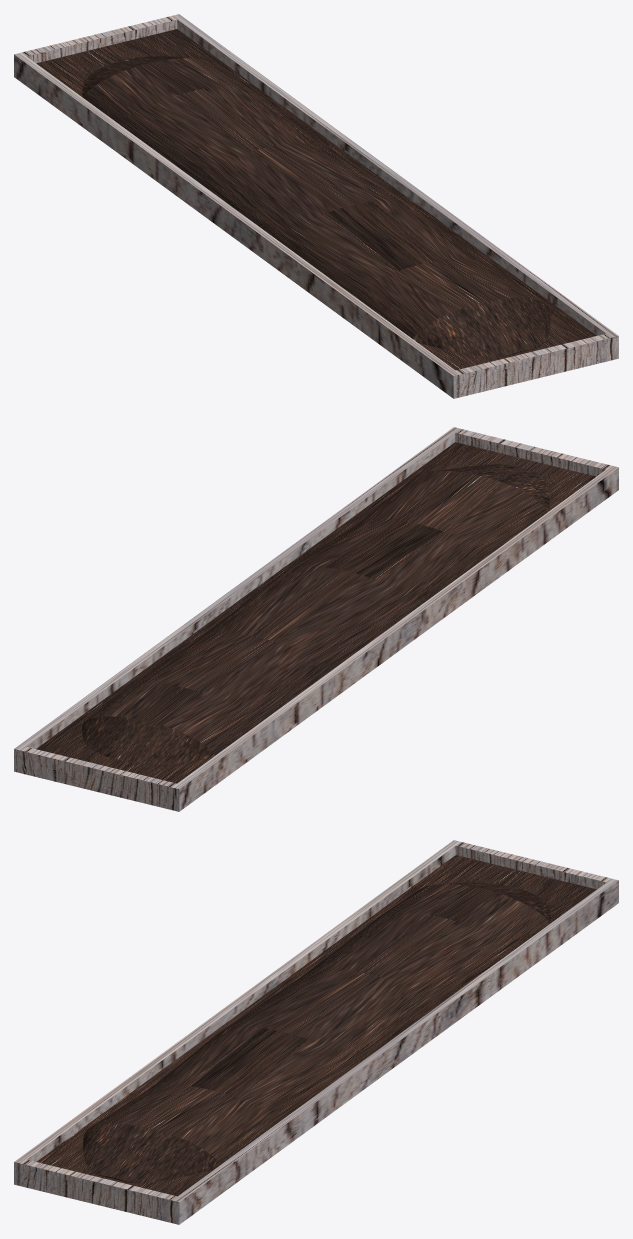
File: SoilDirtPatchIDFK.fbx
3 renders of one model, top to bottom at view 1: azimuth 30°, elevation 25°; view 2: azimuth 150°, elevation 25°; view 3: azimuth 330°, elevation 25°, orthographic.
Parts seen in each view (by area): view 1: soil, pent; view 2: soil, pent; view 3: soil, pent.
Part boxes in pixels (left/top/right/bottom): soil: left=82, top=56, right=550, bottom=357; pent: left=14, top=14, right=618, bottom=398; soil: left=82, top=464, right=549, bottom=765; pent: left=14, top=427, right=618, bottom=811; soil: left=83, top=882, right=550, bottom=1183; pent: left=14, top=840, right=618, bottom=1224.
Bounding box in the file's own units: 207 × 42.47 × 952.
Materials: 2 (2 with a texture image).
